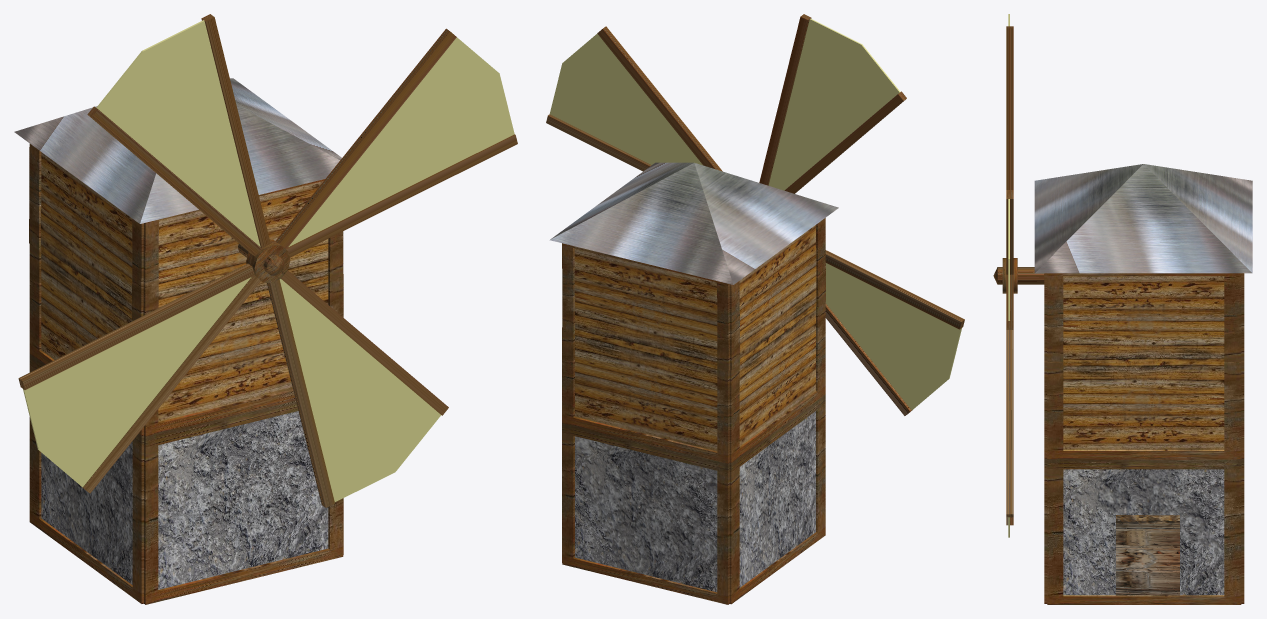
Rendered from Moulin (2).FBX.
The picture shows the model from 3 angles, left to right: view 1: azimuth 30°, elevation 25°; view 2: azimuth 150°, elevation 25°; view 3: azimuth 270°, elevation 25°; orthographic projection. The views are drawn at different scales.
Parts seen in each view (by area): view 1: Roue moulin, Bas moulin, Haut moulin, Pyramid001; view 2: Haut moulin, Roue moulin, Bas moulin, Pyramid001; view 3: Haut moulin, Bas moulin, Pyramid001, Porte moulin, Roue moulin.
Part boxes in pixels (left/top/right/bottom): Roue moulin: left=18, top=14, right=517, bottom=507; Bas moulin: left=29, top=354, right=343, bottom=604; Haut moulin: left=29, top=144, right=343, bottom=436; Pyramid001: left=14, top=78, right=341, bottom=223; Haut moulin: left=562, top=218, right=825, bottom=463; Roue moulin: left=546, top=14, right=964, bottom=415; Bas moulin: left=562, top=394, right=825, bottom=604; Pyramid001: left=549, top=162, right=838, bottom=284; Haut moulin: left=1044, top=273, right=1244, bottom=459; Bas moulin: left=1044, top=459, right=1244, bottom=604; Pyramid001: left=1034, top=164, right=1252, bottom=273; Porte moulin: left=1116, top=515, right=1179, bottom=595; Roue moulin: left=993, top=14, right=1044, bottom=537.
Size of the model in its own units: 603 by 689 by 316.
